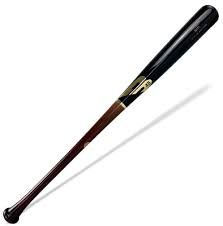baseball bat: (1, 4, 219, 224)
